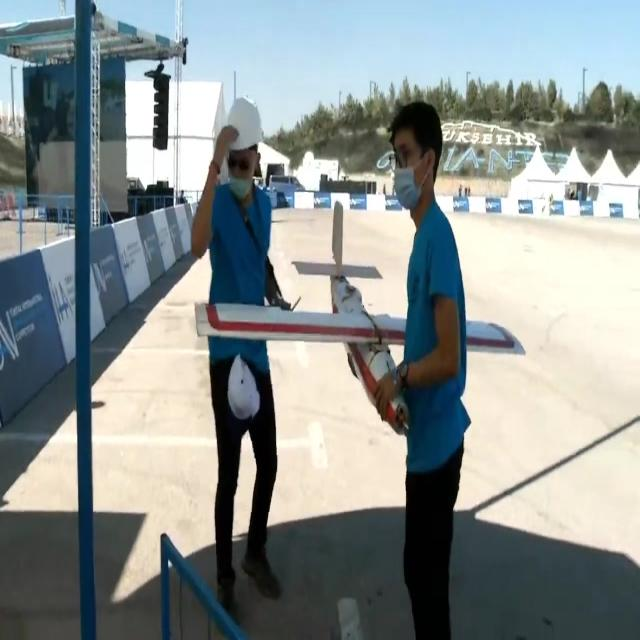iha: (194, 199, 526, 438)
